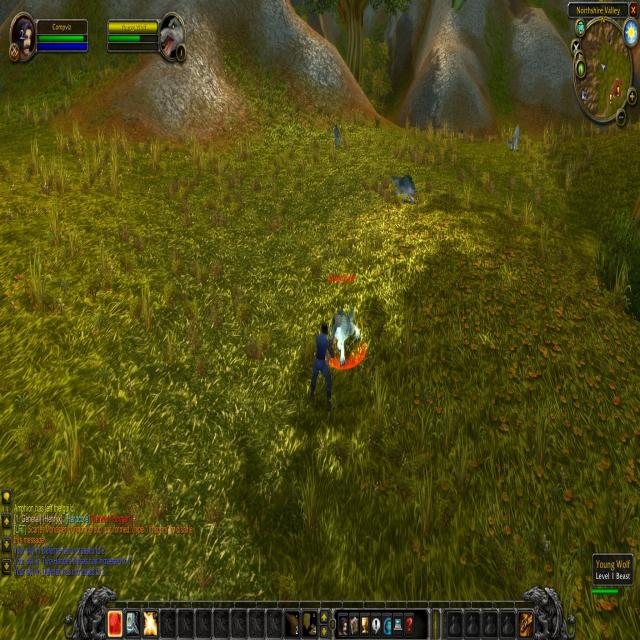wolf: (323, 299, 366, 371), (387, 167, 420, 210), (503, 118, 524, 158), (330, 116, 344, 154)
